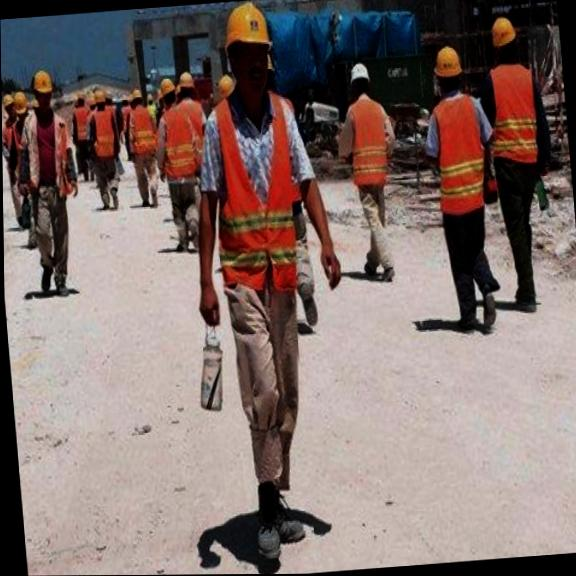no_safety_vest: (22, 102, 77, 209)
safety_vest: (205, 91, 304, 297), (484, 57, 548, 182), (425, 94, 485, 213), (346, 93, 392, 194), (159, 104, 197, 184), (89, 104, 119, 160), (130, 107, 157, 163)
